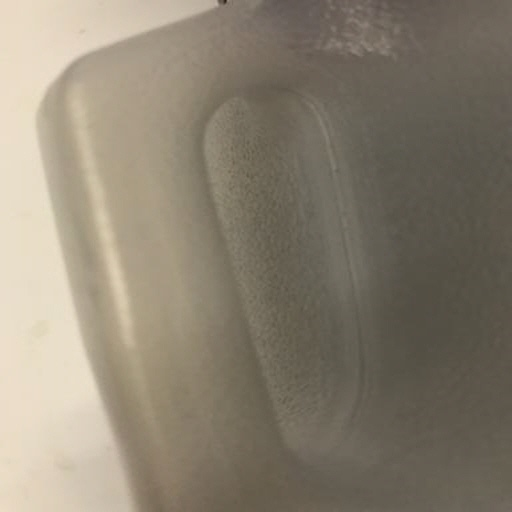Plastic_1: (38, 1, 506, 512)
